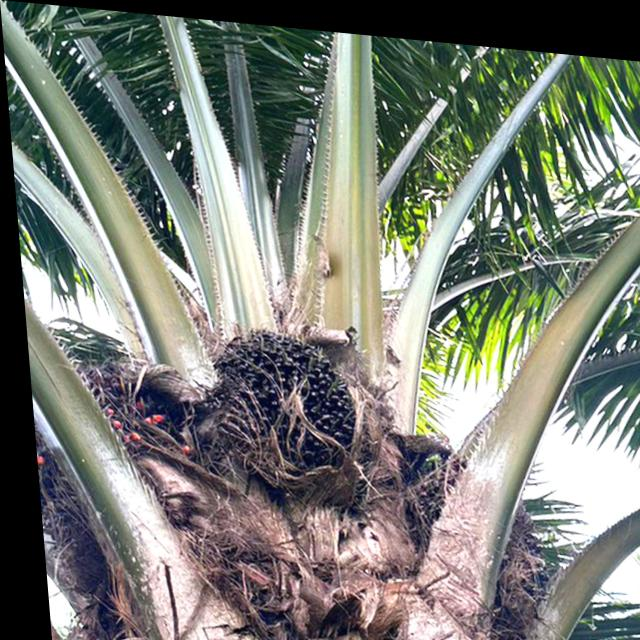unripe: (198, 312, 367, 502)
